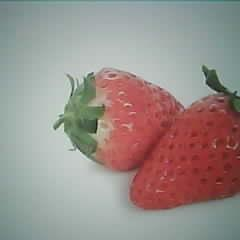straw-ripe: (129, 91, 240, 208), (61, 67, 187, 169)
